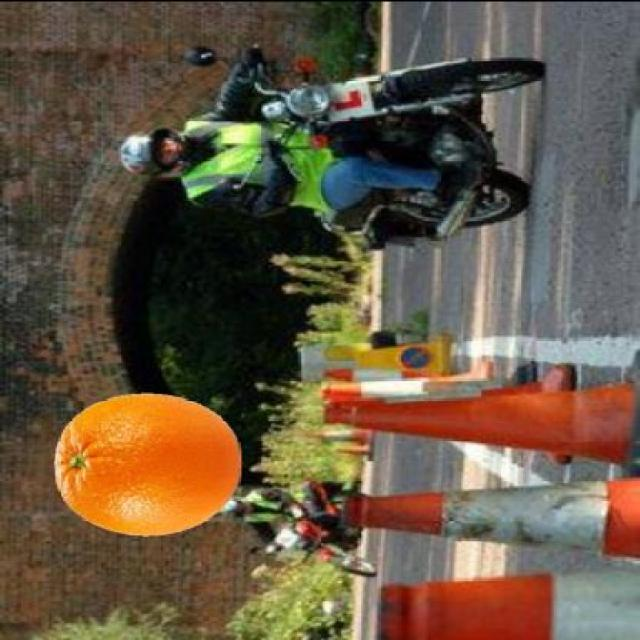Orange: (52, 389, 243, 537)
